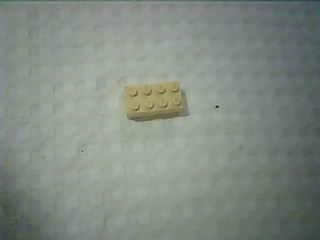lego: (119, 81, 189, 120)
